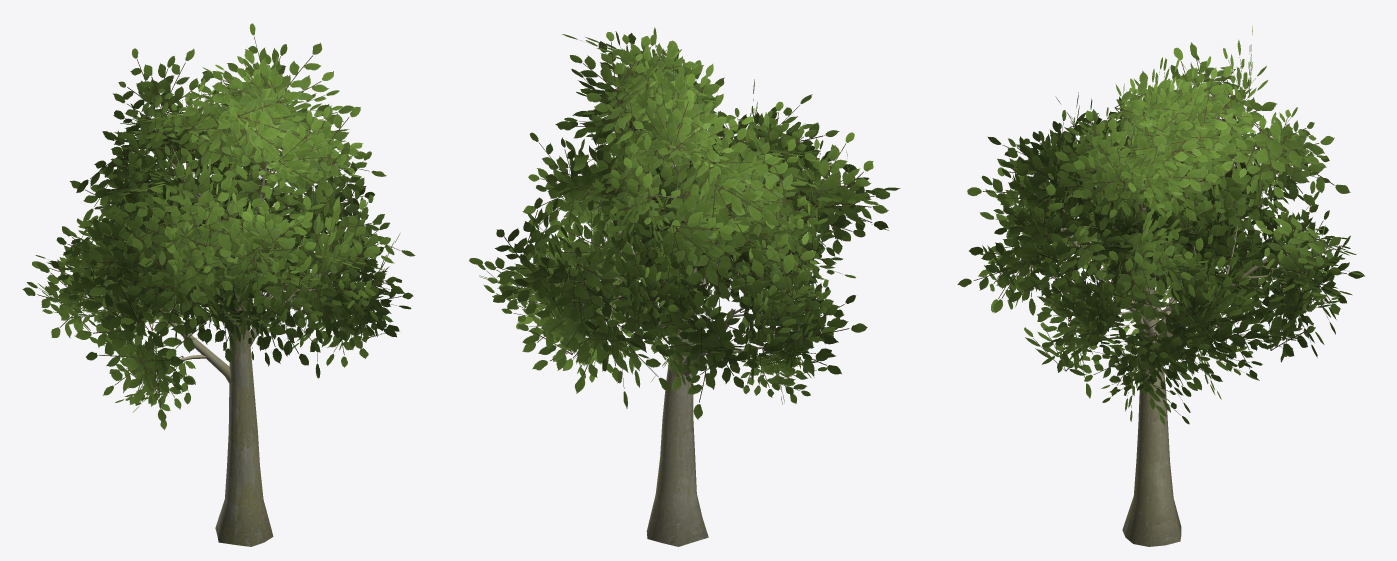
Rendered from tree_beech.glb.
The picture shows the model from 3 angles, left to right: view 1: azimuth 30°, elevation 25°; view 2: azimuth 150°, elevation 25°; view 3: azimuth 270°, elevation 25°; orthographic projection. The views are drawn at different scales.
Visible parts, largest first — view 1: plant; view 2: plant; view 3: plant.
Boxes of the visible parts, left/top/right/bottom form: plant: left=22, top=23, right=415, bottom=546; plant: left=469, top=27, right=900, bottom=546; plant: left=957, top=26, right=1364, bottom=546.
Bounding box in the file's own units: 5.6 × 7.12 × 5.66.
Materials: 2 (2 with a texture image).
